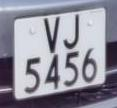4: (43, 51, 64, 96)
5: (20, 54, 45, 99), (62, 49, 81, 93)
6: (80, 45, 100, 90)
J: (61, 12, 84, 54)
V: (40, 14, 65, 56)
